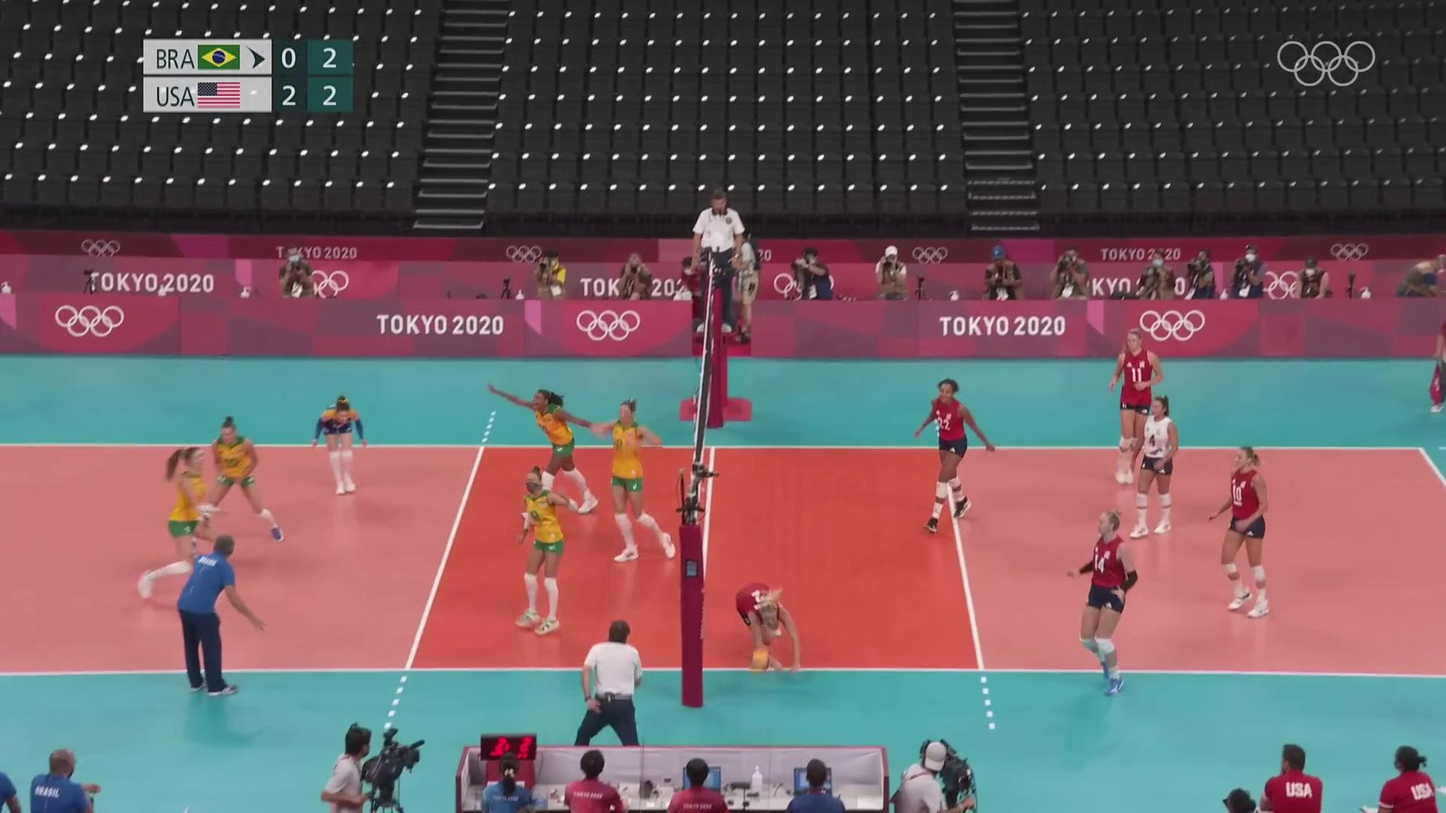player: (495, 388, 603, 519), (133, 445, 221, 604), (909, 380, 995, 531), (1205, 448, 1279, 620), (598, 400, 674, 566), (1072, 508, 1137, 696), (189, 419, 284, 540), (512, 466, 580, 635), (1106, 330, 1164, 478), (1131, 394, 1181, 541), (732, 577, 807, 673), (311, 400, 367, 497)
refree: (573, 619, 651, 747), (691, 193, 746, 338)
